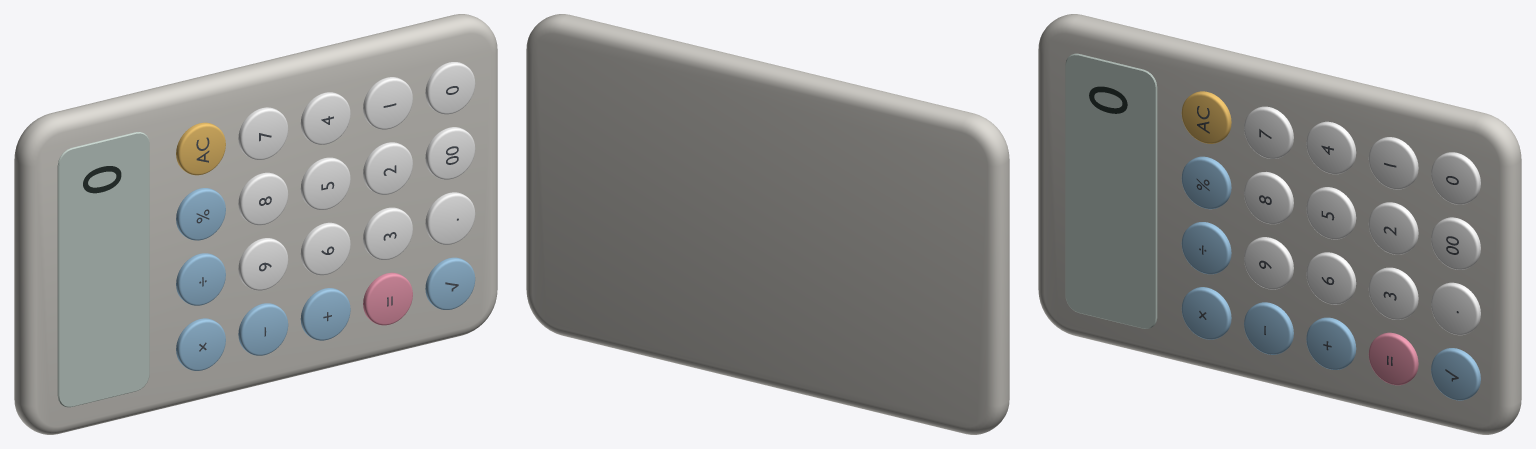
File: tool-calc-card.glb
3 renders of one model, left to right at view 1: azimuth 30°, elevation 25°; view 2: azimuth 150°, elevation 25°; view 3: azimuth 330°, elevation 25°, orthographic.
Parts seen in each view (by area): view 1: Body, Lcd, Key_3_3, Key_4_2, Key_0_2, Key_1_3, Key_3_0, Key_2_3, Key_4_3, Key_0_3, Key_2_0, Key_1_0 (+11 smaller); view 2: Body; view 3: Body, Lcd, Key_4_2, Key_1_3, Key_3_0, Key_0_2, Key_2_3, Key_3_3, Key_0_3, Key_1_0, Key_2_0, Key_3_1 (+11 smaller).
Boxes of the visible parts, box(x1,y1,x2,y2) form: Body: box(14, 14, 497, 434); Lcd: box(57, 132, 149, 407); Key_3_3: box(363, 272, 412, 325); Key_4_2: box(425, 192, 475, 244); Key_0_2: box(176, 253, 225, 305); Key_1_3: box(238, 303, 288, 355); Key_3_0: box(363, 77, 412, 129); Key_2_3: box(300, 288, 350, 340); Key_4_3: box(425, 257, 475, 309); Key_0_3: box(176, 318, 225, 370); Key_2_0: box(300, 92, 350, 144); Key_1_0: box(238, 107, 288, 159); Body: box(526, 14, 1009, 434); Body: box(1038, 14, 1521, 434); Lcd: box(1065, 53, 1157, 328); Key_4_2: box(1431, 282, 1480, 335); Key_1_3: box(1244, 302, 1293, 354); Key_3_0: box(1368, 137, 1418, 189); Key_0_2: box(1181, 222, 1231, 274); Key_2_3: box(1306, 317, 1356, 369); Key_3_3: box(1368, 332, 1418, 385); Key_0_3: box(1181, 287, 1231, 339); Key_1_0: box(1244, 106, 1293, 158); Key_2_0: box(1306, 121, 1356, 174); Key_3_1: box(1368, 202, 1418, 254).
Size of the model in its own units: 0.104 by 0.066 by 0.00763.
